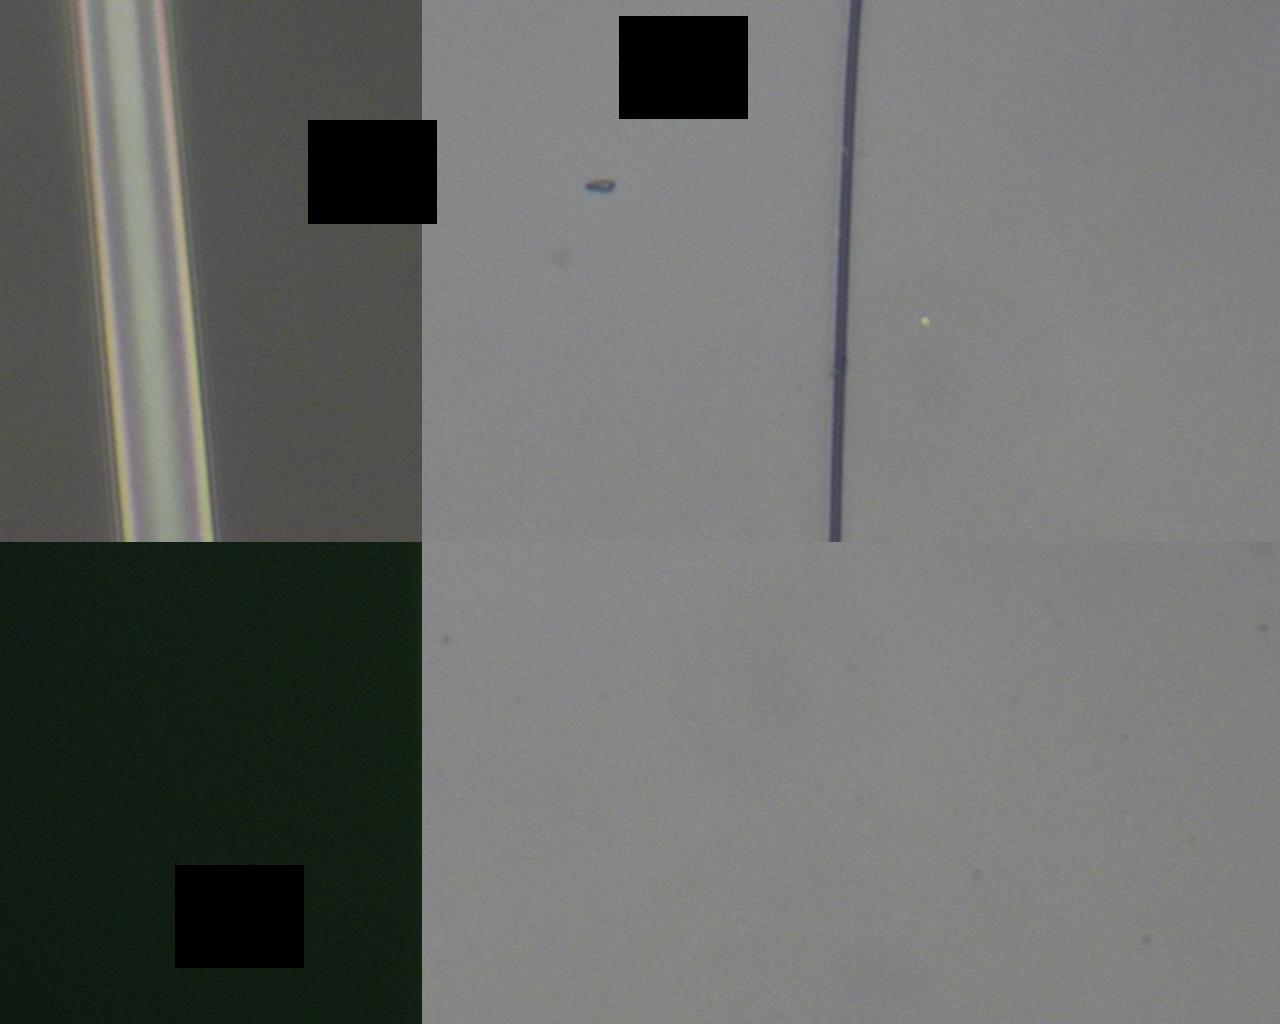fiber: (409, 0, 1170, 387), (0, 241, 288, 417)
